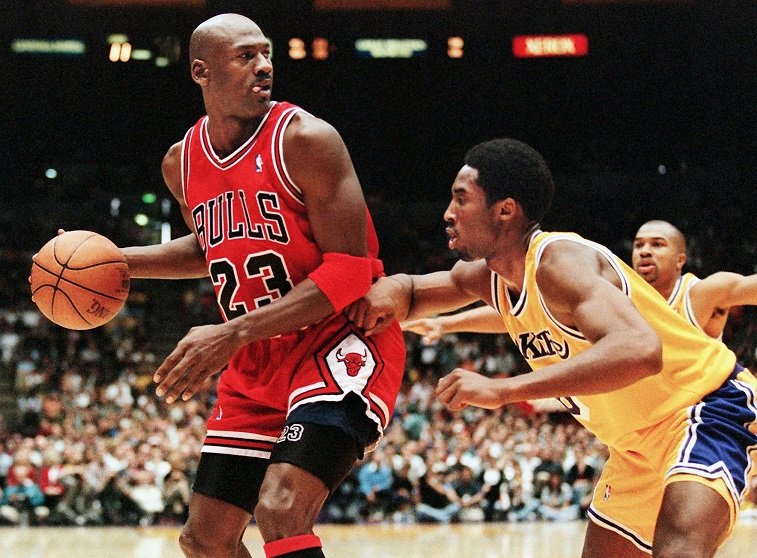breakthrough: (23, 8, 402, 558), (28, 223, 133, 337)
defense: (371, 122, 757, 558)
